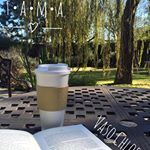cups: (32, 62, 71, 135)
